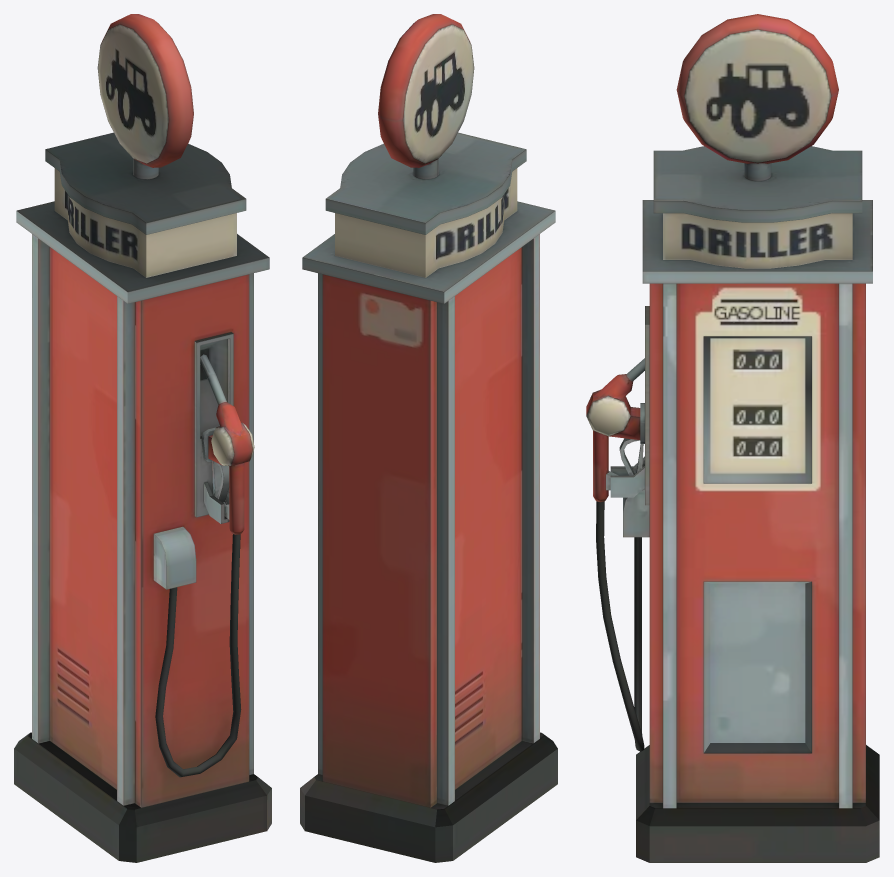
3 renders of one model, left to right at view 1: azimuth 30°, elevation 25°; view 2: azimuth 150°, elevation 25°; view 3: azimuth 270°, elevation 25°, orthographic. The views are drawn at different scales.
Parts seen in each view (by area): view 1: body0_model0_lod0_mesh0; view 2: body0_model0_lod0_mesh0; view 3: body0_model0_lod0_mesh0.
Part boxes in pixels (<box>): body0_model0_lod0_mesh0: <box>14,14,271,862</box>; body0_model0_lod0_mesh0: <box>300,14,557,862</box>; body0_model0_lod0_mesh0: <box>586,14,879,862</box>.
Bounding box in the file's own units: 20.61 × 101 × 33.1.
Materials: 1 (1 with a texture image).
